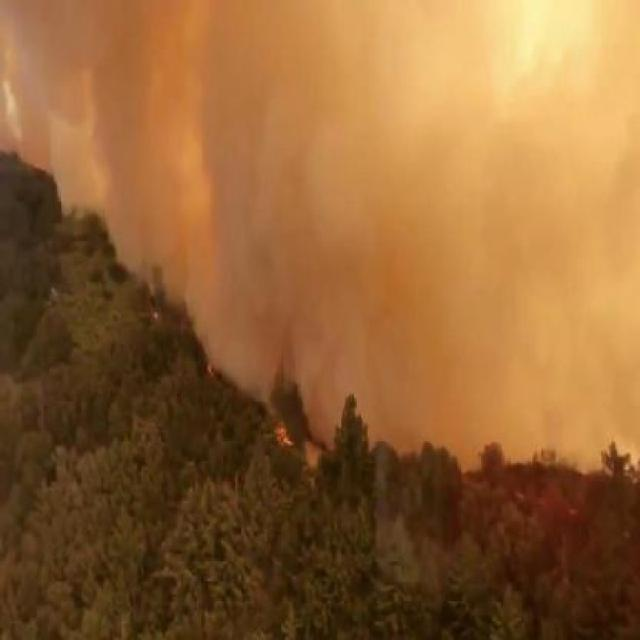Fire: (272, 420, 294, 449)
